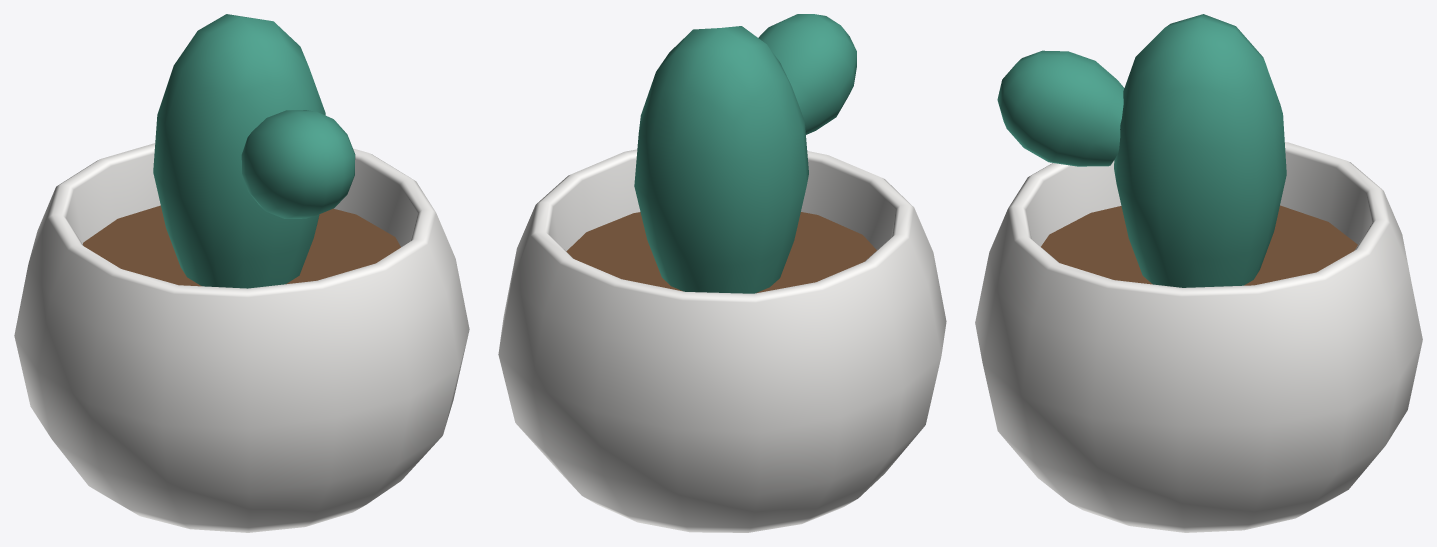
The model's file is Cactus_1.glb.
The picture shows the model from 3 angles, left to right: view 1: azimuth 30°, elevation 25°; view 2: azimuth 150°, elevation 25°; view 3: azimuth 270°, elevation 25°; orthographic projection.
Visible parts, largest first — view 1: Cactus_1; view 2: Cactus_1; view 3: Cactus_1.
Boxes of the visible parts, <box> form: Cactus_1: <box>14,14,469,532</box>; Cactus_1: <box>498,14,946,532</box>; Cactus_1: <box>975,14,1422,532</box>.
Bounding box in the file's own units: 0.2896 × 0.3218 × 0.2896.
Materials: 1 (1 with a texture image).
